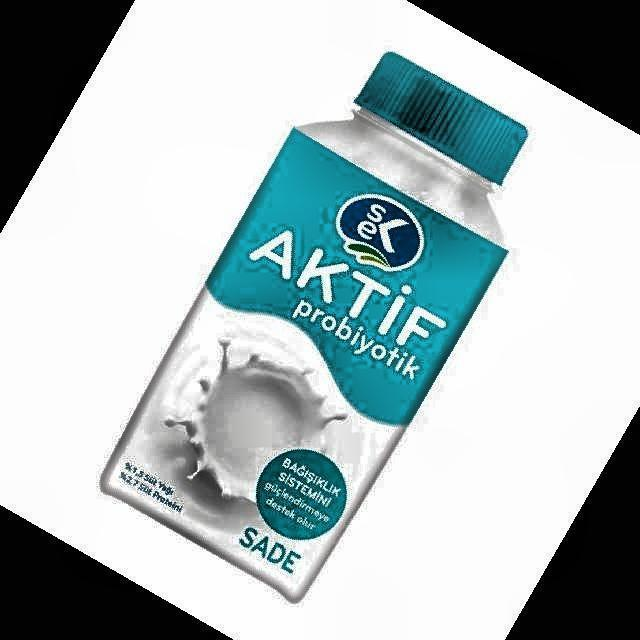plastic: (102, 52, 528, 601)
